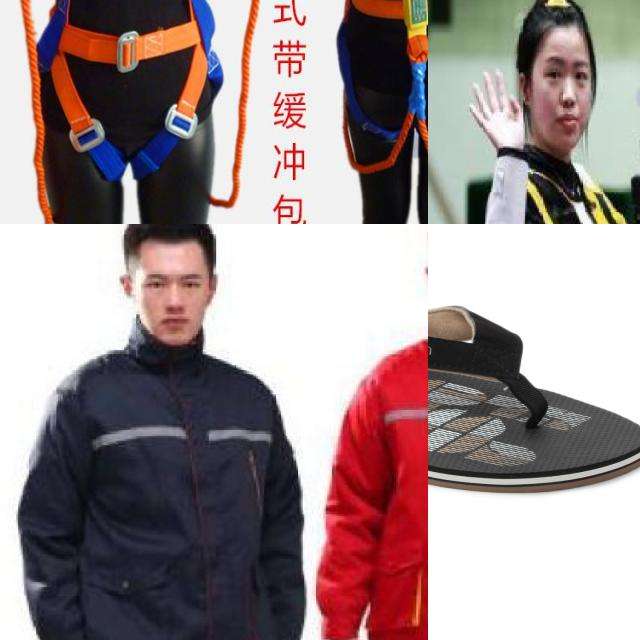Harness: (48, 0, 245, 110), (332, 0, 428, 160)
No_Glasses: (540, 56, 588, 90)
Sandals: (428, 297, 640, 495)
face_nomask: (137, 248, 210, 350), (534, 42, 590, 146)
hand_noglove: (468, 68, 528, 149)
head_nohelmet: (116, 224, 230, 259), (517, 0, 593, 50)
person: (22, 224, 315, 640), (318, 224, 428, 640), (451, 0, 640, 224)
